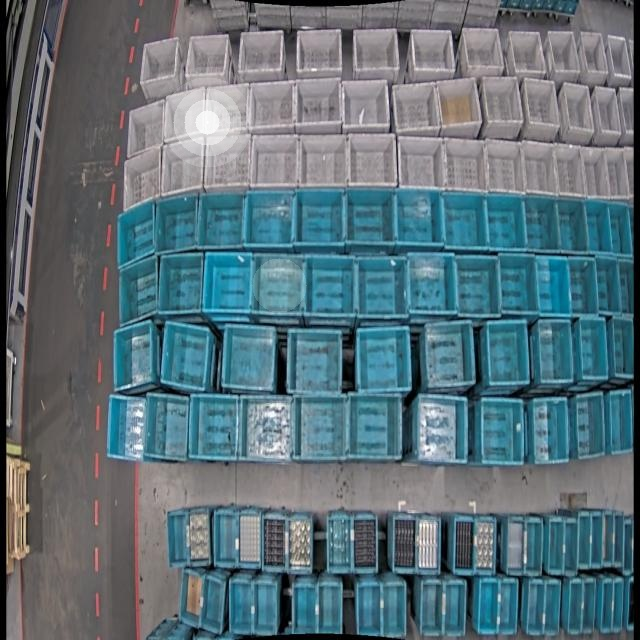Box: (286, 328, 344, 398), (221, 322, 276, 392), (356, 324, 411, 394), (241, 395, 295, 464), (346, 393, 400, 461), (416, 394, 468, 464), (251, 252, 305, 319), (160, 320, 210, 392), (301, 254, 356, 319), (189, 392, 240, 462), (292, 187, 346, 250), (297, 394, 347, 462), (425, 321, 474, 390), (201, 250, 252, 316), (354, 254, 406, 318), (141, 392, 188, 462), (407, 252, 457, 316), (157, 251, 205, 317), (245, 188, 295, 251), (342, 188, 393, 248), (393, 188, 443, 249), (196, 189, 245, 251), (202, 133, 250, 196), (153, 192, 200, 256), (251, 134, 300, 194), (120, 148, 165, 213), (484, 320, 528, 386), (480, 396, 522, 465), (104, 395, 147, 461), (439, 190, 486, 250), (114, 320, 152, 394), (119, 256, 158, 328), (456, 255, 501, 317), (162, 137, 207, 198), (341, 78, 390, 134), (292, 76, 342, 130), (299, 132, 348, 187), (397, 135, 445, 191), (117, 199, 155, 269), (392, 81, 442, 134), (348, 133, 397, 187), (530, 396, 570, 462), (249, 78, 297, 132), (202, 82, 250, 135), (498, 253, 538, 316), (162, 86, 206, 142), (462, 24, 506, 79), (484, 193, 525, 252), (443, 138, 487, 192), (537, 319, 574, 383), (485, 138, 526, 194), (437, 77, 482, 128), (126, 99, 164, 158), (506, 27, 548, 80), (534, 256, 569, 317), (520, 142, 558, 198), (522, 195, 558, 252), (575, 393, 606, 459), (551, 144, 587, 200), (296, 28, 342, 71), (483, 76, 524, 124), (138, 37, 179, 84), (353, 29, 400, 70), (576, 29, 611, 84), (578, 317, 608, 381), (555, 196, 588, 254), (578, 146, 612, 201), (412, 30, 456, 72), (238, 31, 283, 72), (185, 34, 229, 75), (524, 78, 560, 126), (567, 257, 596, 316), (610, 316, 636, 379), (328, 512, 354, 574), (585, 197, 613, 254), (563, 82, 594, 133), (212, 508, 238, 568), (285, 512, 310, 574), (186, 506, 211, 567), (606, 36, 634, 90), (262, 514, 288, 572), (594, 257, 620, 315), (237, 509, 262, 569), (611, 390, 634, 455), (352, 512, 376, 573), (546, 30, 580, 72), (201, 575, 225, 634), (166, 511, 190, 570), (392, 514, 416, 572), (179, 569, 202, 629), (594, 86, 621, 137), (416, 515, 439, 574), (356, 583, 381, 637), (443, 581, 467, 637), (229, 580, 253, 635), (292, 582, 317, 634), (609, 201, 633, 255), (384, 584, 407, 640), (420, 581, 443, 636), (475, 514, 496, 574), (454, 514, 475, 574), (605, 148, 630, 198), (255, 584, 278, 638), (498, 577, 518, 636), (318, 585, 342, 634), (479, 580, 499, 634), (527, 580, 546, 636), (506, 515, 524, 574), (526, 516, 544, 574), (544, 579, 562, 635), (563, 518, 579, 576), (550, 515, 565, 573), (567, 578, 582, 635), (590, 509, 604, 568), (578, 510, 592, 568), (602, 510, 616, 567), (582, 578, 596, 634), (601, 578, 615, 634), (613, 511, 626, 569), (611, 578, 624, 632), (620, 87, 634, 135), (622, 519, 633, 575), (624, 146, 633, 199), (627, 578, 634, 631)
